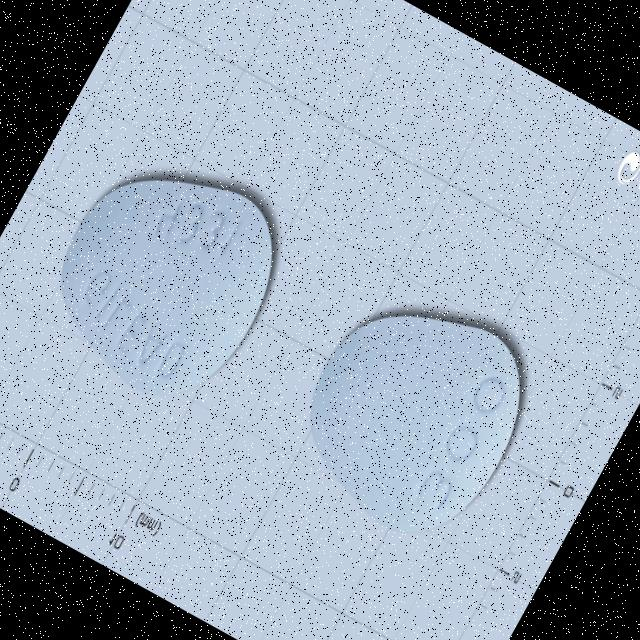Viread Tab: (23, 130, 307, 424), (269, 270, 553, 564)
